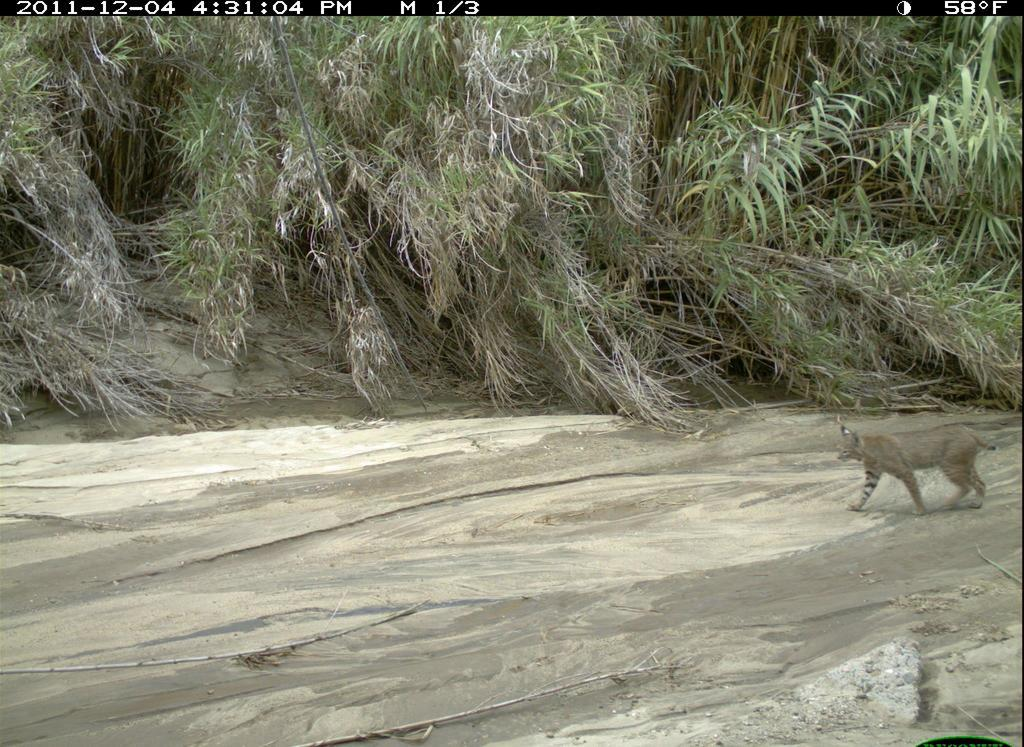bobcat: (829, 402, 993, 515)
